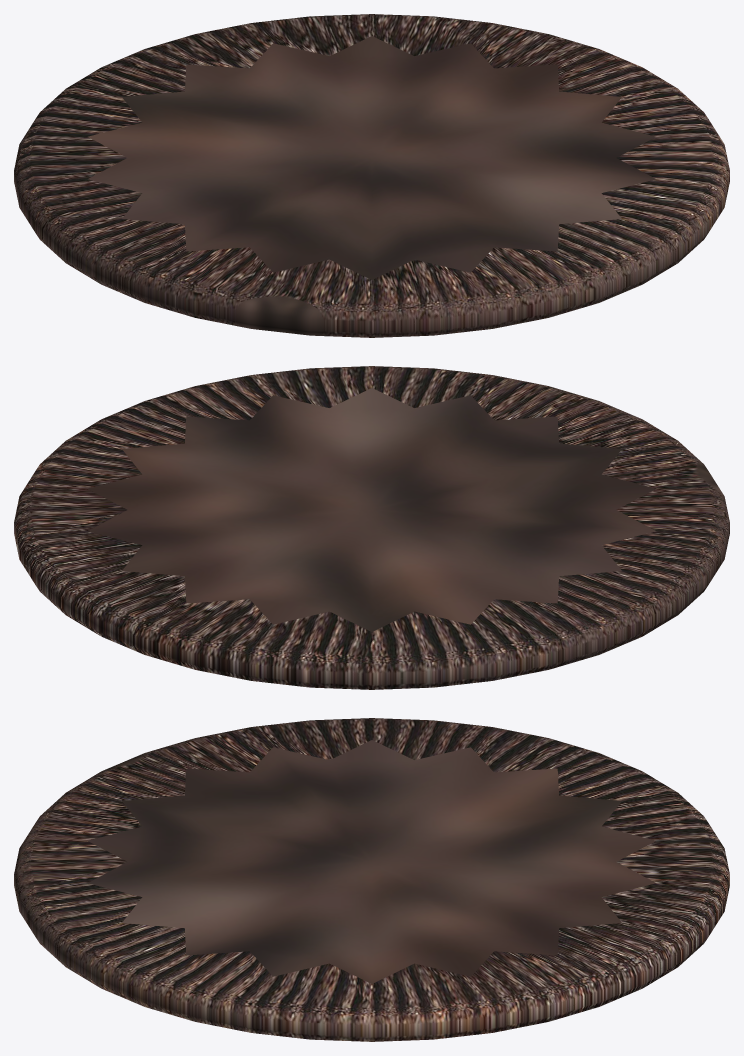
File: Oreo_ao.FBX
The picture shows the model from 3 angles, top to bottom: view 1: azimuth 30°, elevation 25°; view 2: azimuth 150°, elevation 25°; view 3: azimuth 270°, elevation 25°; orthographic projection.
Visible parts, largest first — view 1: Cylinder002; view 2: Cylinder002; view 3: Cylinder002.
Boxes of the visible parts, x1,y1,x2,y2 form: Cylinder002: [14, 14, 729, 337]; Cylinder002: [14, 366, 729, 689]; Cylinder002: [14, 718, 729, 1041].
Size of the model in its own units: 16.28 by 0.9175 by 16.28.
1 material, 1 textured.
